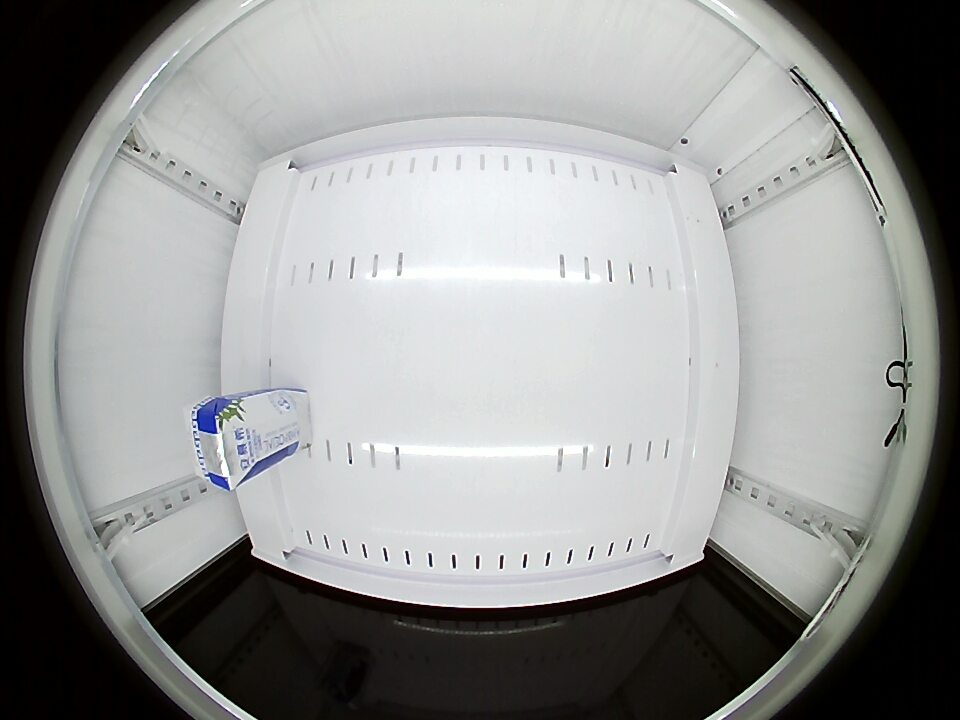anmuxi: (189, 396, 256, 491)
